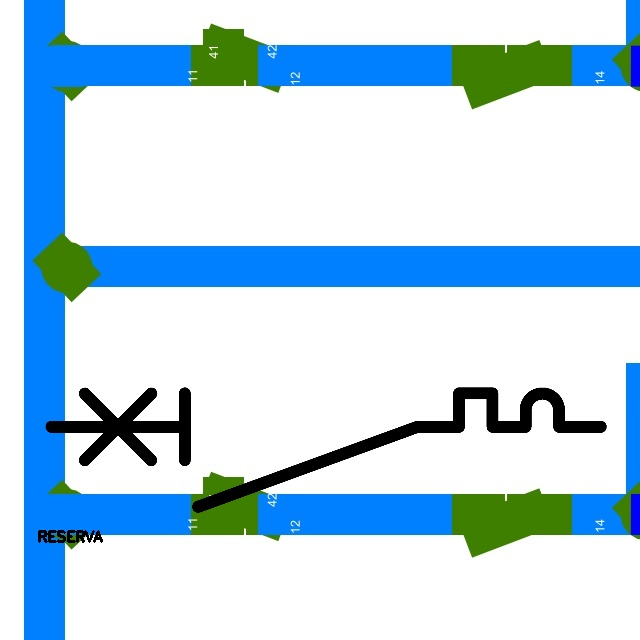interruptor_termomagnetico: (37, 379, 615, 520)
